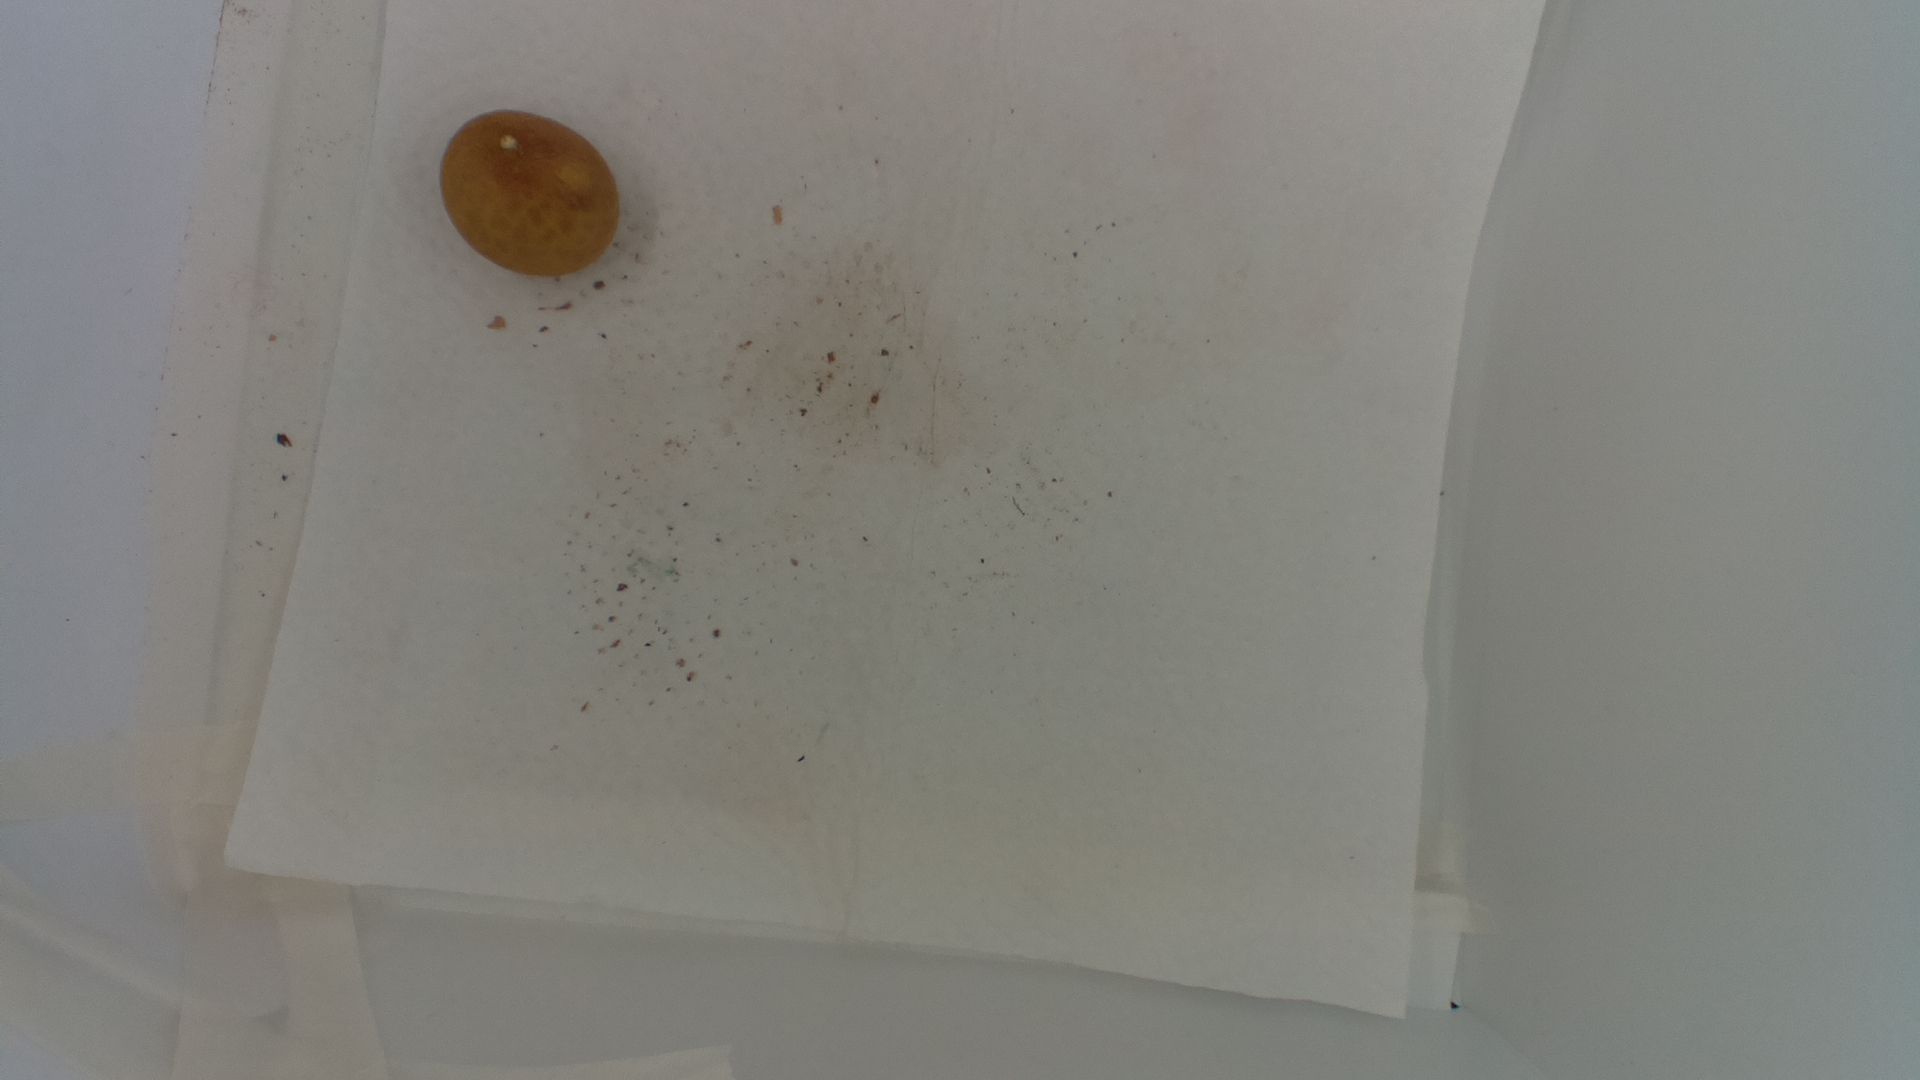fruit: (438, 105, 625, 280)
